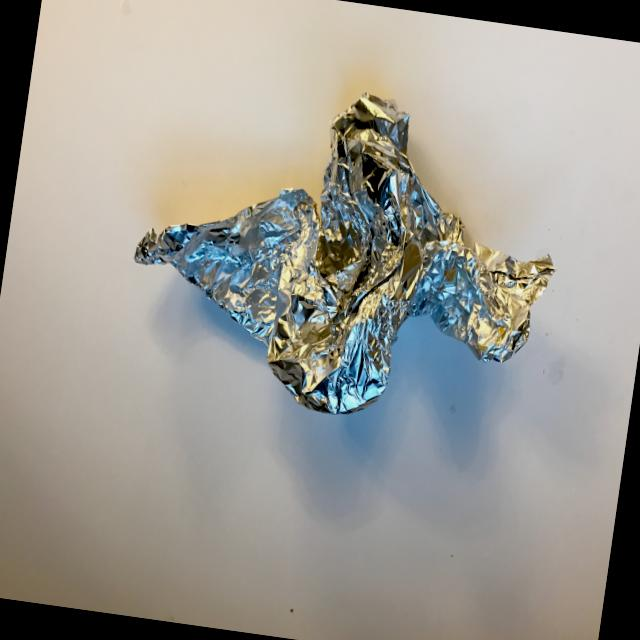Metal: (93, 30, 586, 458)
